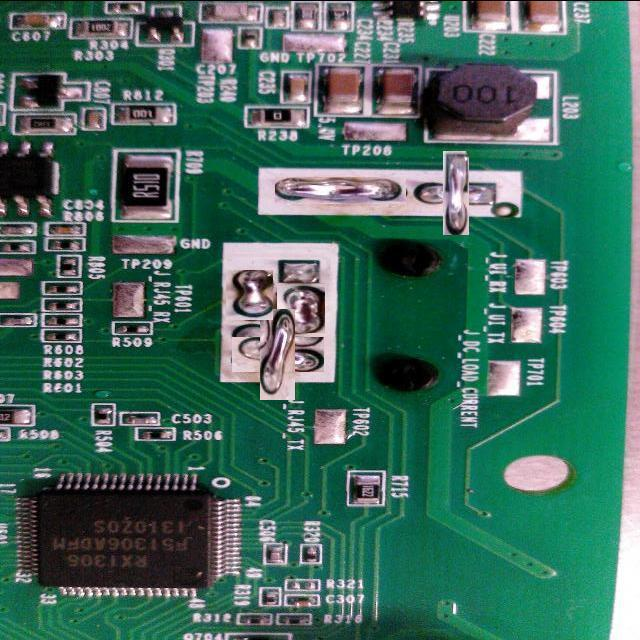Short_circuit: (246, 323, 310, 386), (275, 178, 406, 205), (429, 165, 484, 220), (277, 283, 325, 333), (226, 270, 273, 320)
